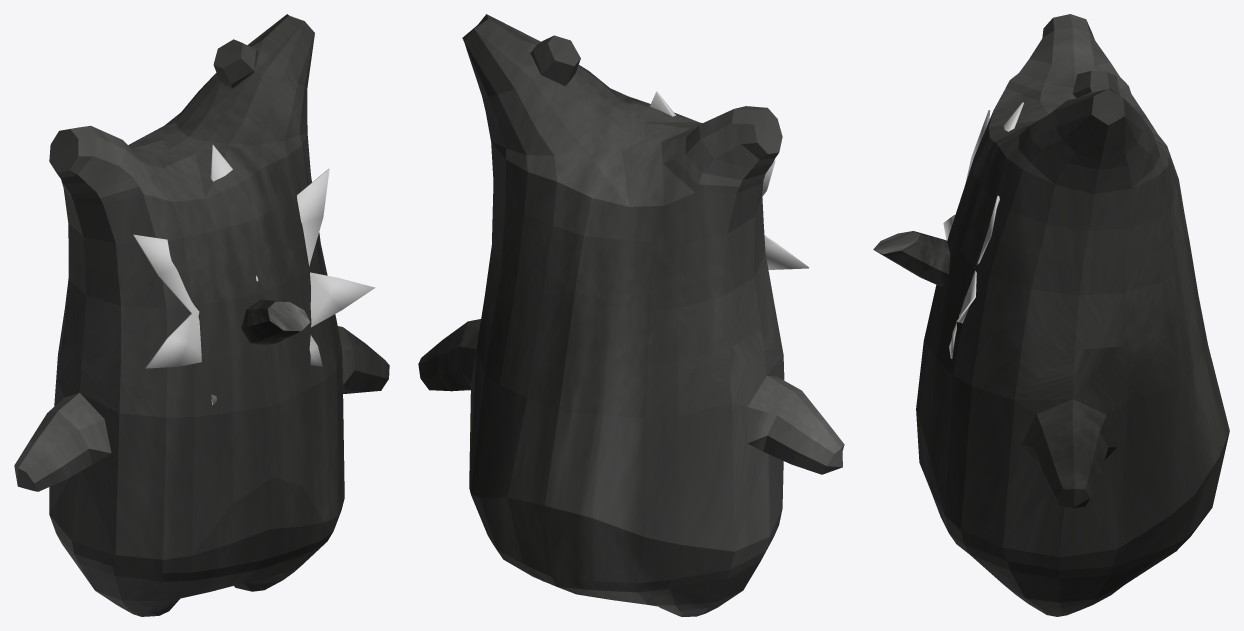
Rendered from frame_0009.obj.
3 renders of one model, left to right at view 1: azimuth 30°, elevation 25°; view 2: azimuth 150°, elevation 25°; view 3: azimuth 270°, elevation 25°, orthographic. The views are drawn at different scales.
Visible parts, largest first — view 1: korok, leaf.003_柱体.013, nose.003_柱体.011; view 2: korok, leaf.003_柱体.013; view 3: korok, nose.003_柱体.011, leaf.003_柱体.013.
Part boxes in pixels (x1,y1,x2,y2): korok: (14,14,389,616); leaf.003_柱体.013: (133,145,375,404); nose.003_柱体.011: (241,299,309,344); korok: (418,14,844,616); leaf.003_柱体.013: (650,91,809,269); korok: (916,14,1229,616); nose.003_柱体.011: (873,231,950,286); leaf.003_柱体.013: (943,102,1023,358).
Size of the model in its own units: 1.69 by 2.27 by 1.33.
